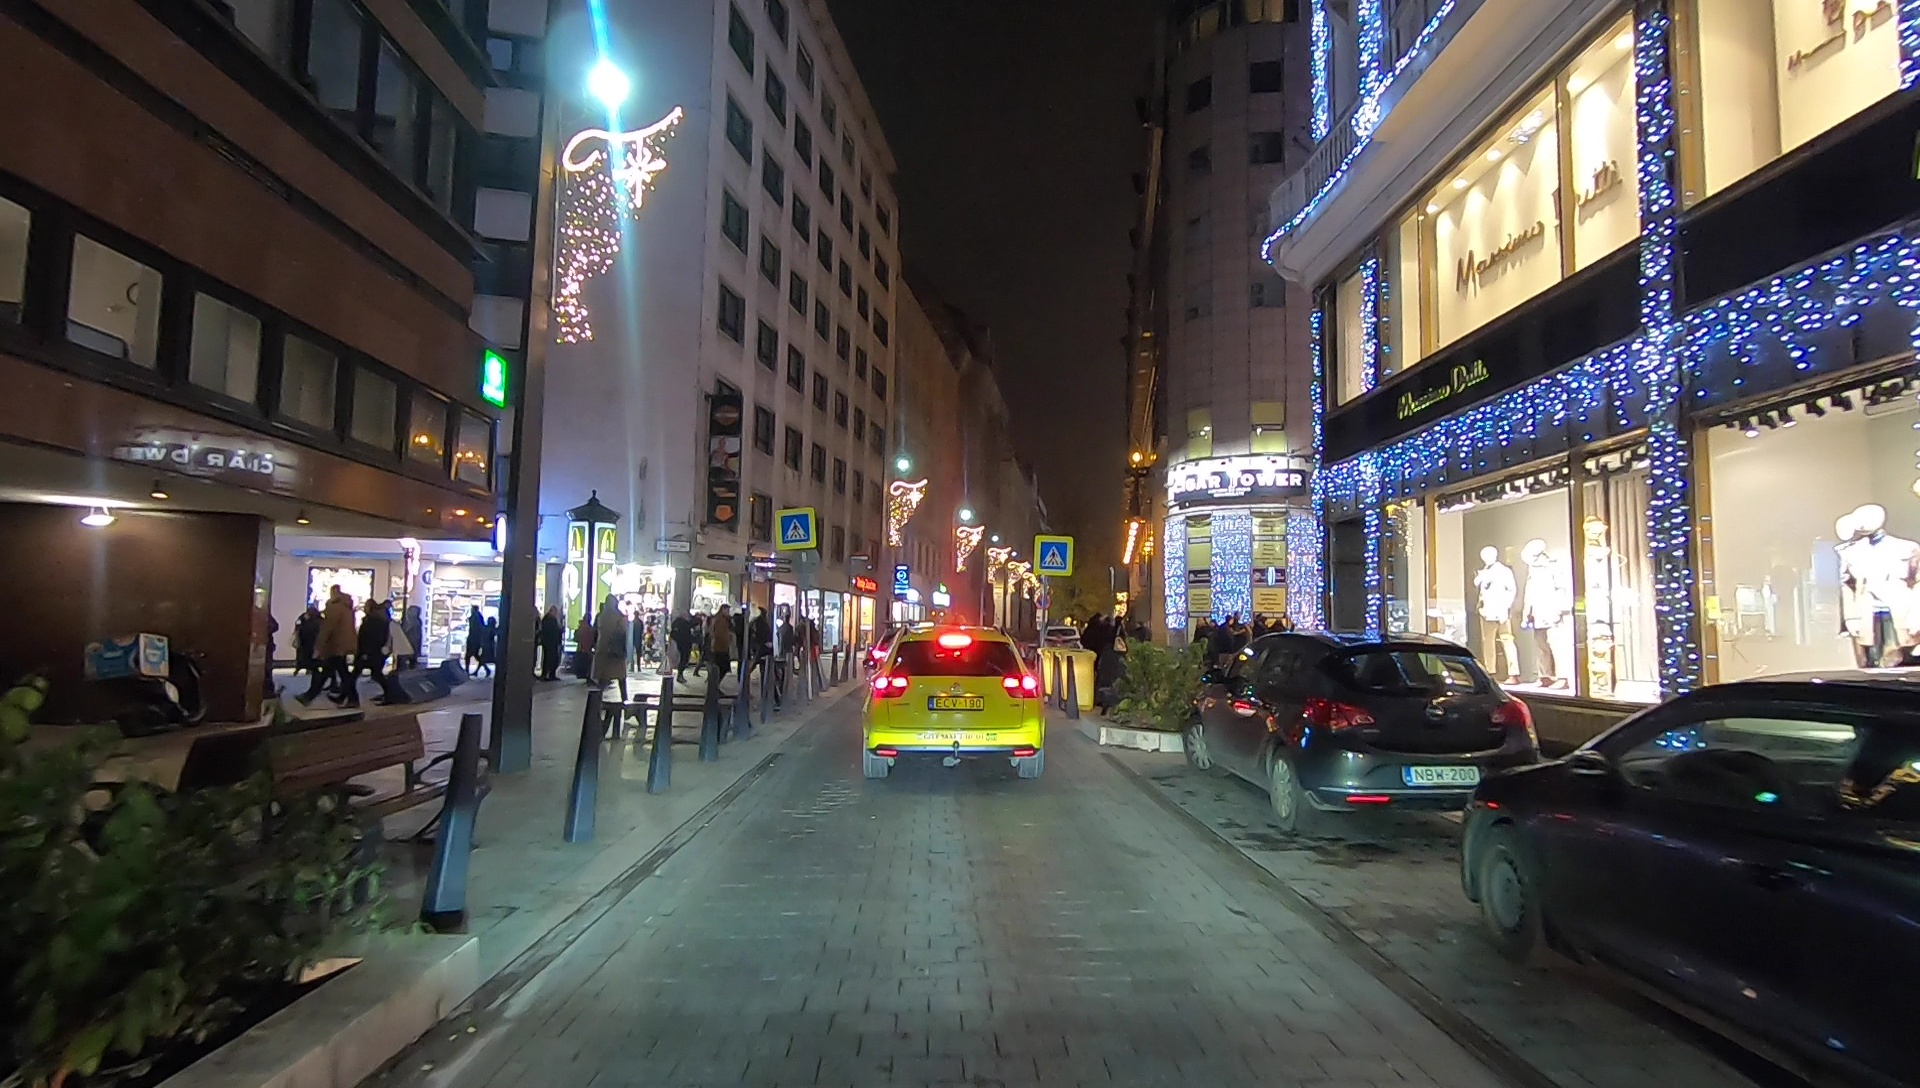person: (309, 589, 357, 715), (597, 599, 630, 704), (360, 599, 388, 702), (1095, 617, 1125, 706), (710, 606, 732, 689), (539, 602, 562, 682), (749, 606, 769, 691), (462, 604, 482, 680), (671, 611, 693, 682), (402, 608, 419, 686), (802, 615, 817, 686), (576, 611, 591, 684), (778, 613, 791, 686), (484, 617, 495, 674)
